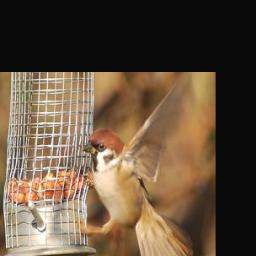Sparrow: (77, 72, 195, 256)
